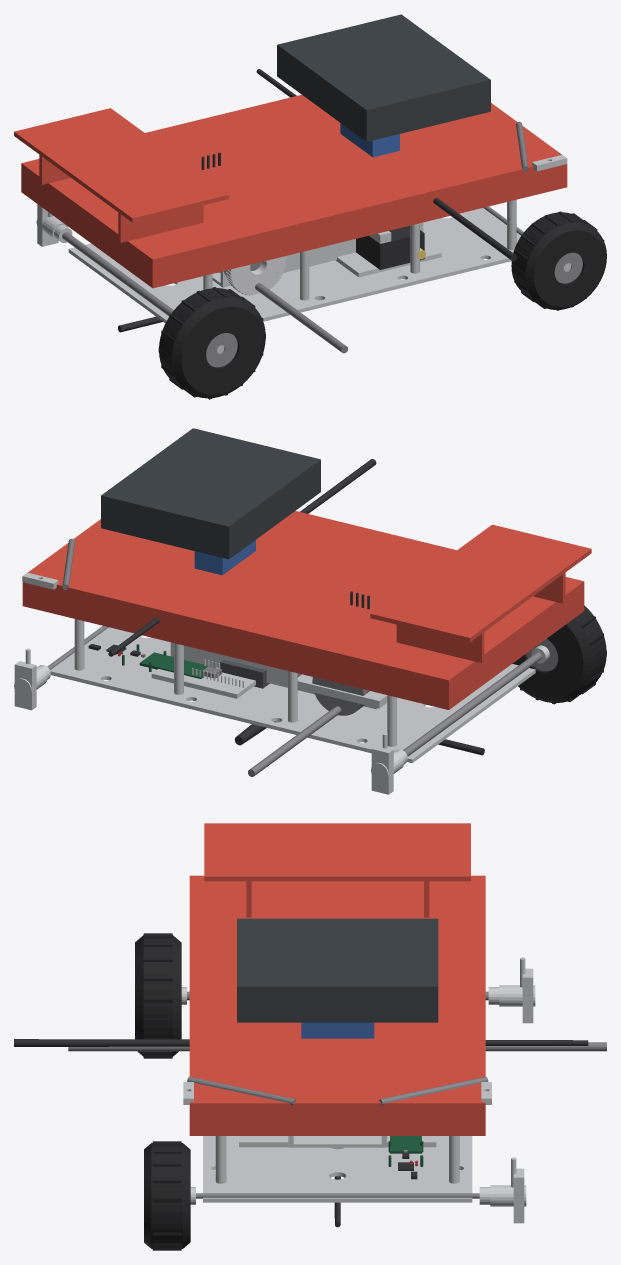
Rendered from rc-car-assembly.glb.
The picture shows the model from 3 angles, top to bottom: view 1: azimuth 30°, elevation 25°; view 2: azimuth 150°, elevation 25°; view 3: azimuth 270°, elevation 25°; orthographic projection. The views are drawn at different scales.
Parts seen in each view (by area): view 1: rc_body_shell, rc_body_glass, rc_rear_wing, rc_chassis_lower, wheel-rear-68mm_tire, wheel-front-59mm_tire, quicrun-wp-1060_case, rc_standoffs, rc_spur_50t, rc_battery_tray, rc_rear_axle, mg996r_cable (+7 smaller); view 2: rc_body_shell, rc_body_glass, rc_rear_wing, rc_chassis_lower, wheel-rear-68mm_tire, rc_standoffs, rc_rear_axle, rc_electronics_deck, rc_battery_tray, rc_motor_mount_plate, mg996r_cable, rc_driveshafts (+6 smaller); view 3: rc_body_shell, rc_body_glass, rc_rear_wing, rc_chassis_lower, wheel-rear-68mm_tire, wheel-front-59mm_tire, mg996r_cable, rc_driveshafts, rc_front_axle, mg996r_case, rc_battery_tray, wheel-front-59mm_tread (+10 smaller).
Part boxes in pixels (x1,y1,x2,y2): rc_body_shell: [21, 94, 567, 288]; rc_body_glass: [277, 14, 490, 141]; rc_rear_wing: [14, 108, 228, 242]; rc_chassis_lower: [68, 206, 523, 323]; wheel-rear-68mm_tire: [159, 288, 265, 398]; wheel-front-59mm_tire: [511, 212, 606, 309]; quicrun-wp-1060_case: [356, 225, 424, 269]; rc_standoffs: [203, 199, 516, 300]; rc_spur_50t: [225, 256, 286, 295]; rc_battery_tray: [212, 222, 423, 287]; rc_rear_axle: [62, 232, 173, 315]; mg996r_cable: [256, 69, 516, 261]; rc_body_shell: [22, 511, 584, 709]; rc_body_glass: [101, 428, 320, 559]; rc_rear_wing: [370, 524, 591, 662]; rc_chassis_lower: [47, 625, 535, 763]; wheel-rear-68mm_tire: [512, 605, 606, 702]; rc_standoffs: [74, 619, 396, 746]; rc_rear_axle: [403, 652, 541, 756]; rc_electronics_deck: [151, 661, 255, 698]; rc_battery_tray: [170, 642, 377, 709]; rc_motor_mount_plate: [297, 674, 387, 708]; mg996r_cable: [108, 459, 376, 656]; rc_driveshafts: [248, 706, 341, 776]; rc_body_shell: [189, 875, 485, 1135]; rc_body_glass: [237, 918, 438, 1022]; rc_rear_wing: [204, 823, 470, 917]; rc_chassis_lower: [203, 1136, 472, 1202]; wheel-rear-68mm_tire: [135, 935, 181, 1056]; wheel-front-59mm_tire: [144, 1143, 190, 1248]; mg996r_cable: [14, 1039, 588, 1046]; rc_driveshafts: [68, 1042, 606, 1051]; rc_front_axle: [196, 1193, 479, 1198]; mg996r_case: [301, 1022, 374, 1038]; rc_battery_tray: [288, 1136, 386, 1147]; wheel-front-59mm_tread: [152, 1141, 181, 1250].
Size of the model in its own units: 0.3267 by 0.1458 by 0.3303.
